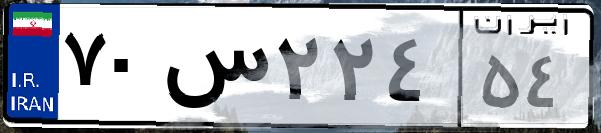0: (110, 28, 158, 98)
2: (270, 28, 330, 110), (330, 28, 385, 110)
4: (385, 28, 445, 110), (525, 38, 570, 115)
5: (475, 38, 525, 113)
7: (57, 26, 110, 100)
س: (158, 20, 270, 120)
